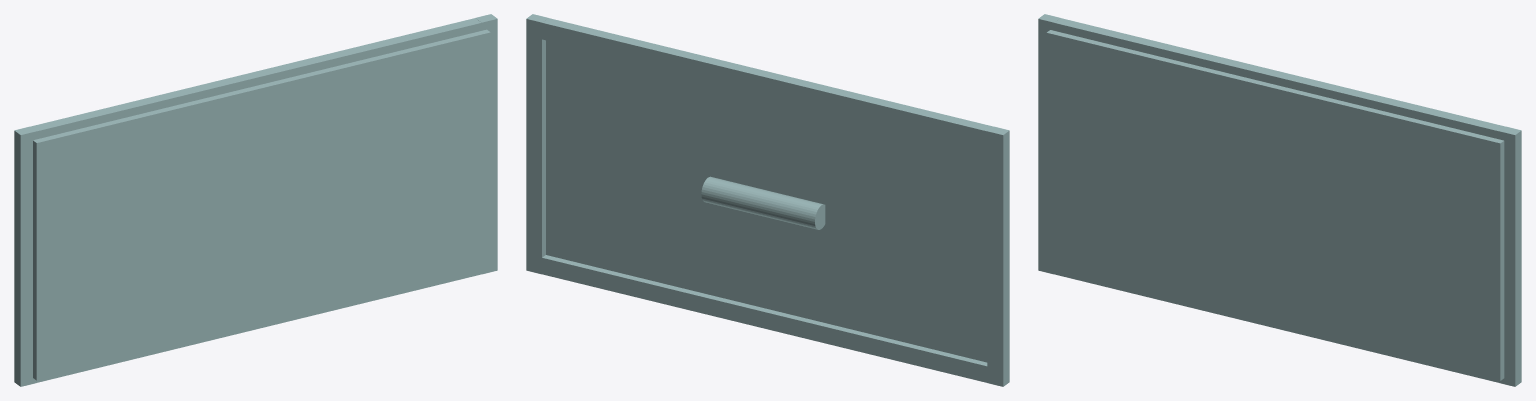
Rendered from barlid.fbx.
The picture shows the model from 3 angles, left to right: view 1: azimuth 30°, elevation 25°; view 2: azimuth 150°, elevation 25°; view 3: azimuth 330°, elevation 25°; orthographic projection.
Visible parts, largest first — view 1: lid; view 2: lid; view 3: lid.
Boxes of the visible parts, left/top/right/bottom form: lid: left=14, top=14, right=497, bottom=386; lid: left=526, top=14, right=1009, bottom=386; lid: left=1038, top=14, right=1521, bottom=386.
Size of the model in its own units: 420 by 212 by 25.88.
